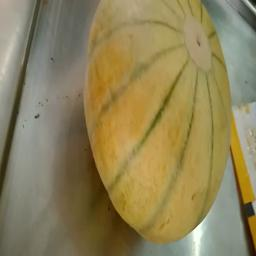Melon Semifresh: (85, 0, 230, 244)
